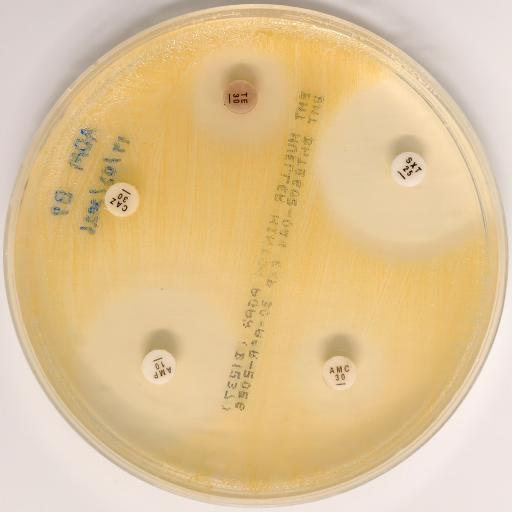disc: (222, 80, 258, 116), (391, 151, 427, 187), (321, 355, 357, 391), (104, 182, 140, 218), (142, 349, 176, 385)
